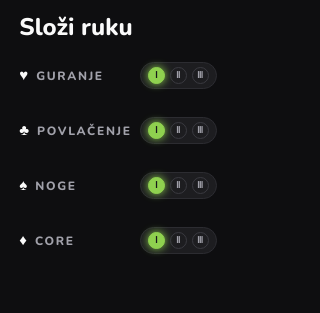
Test: ExercisePicker › prikazuje samo vežbe aktivnog tier taba po grupi, tabovi rade nezavisno
Expected: the text "Sklekovi" is not shown
Step 1. Click the button "Ⅱ" in the row of "GURANJE" → (178,76), box [170,67,187,84]
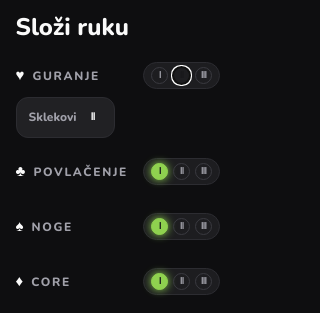
Expected: the text "Sklekovi" is shown, [28,109,76,126]
